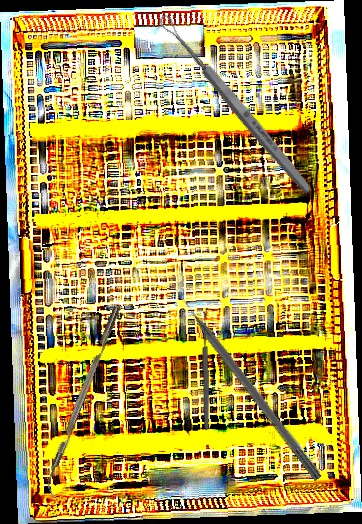Chopper: (39, 306, 129, 498)
Pusher: (170, 283, 325, 482)
Surgical Spoon: (155, 11, 316, 197), (201, 310, 211, 431)
